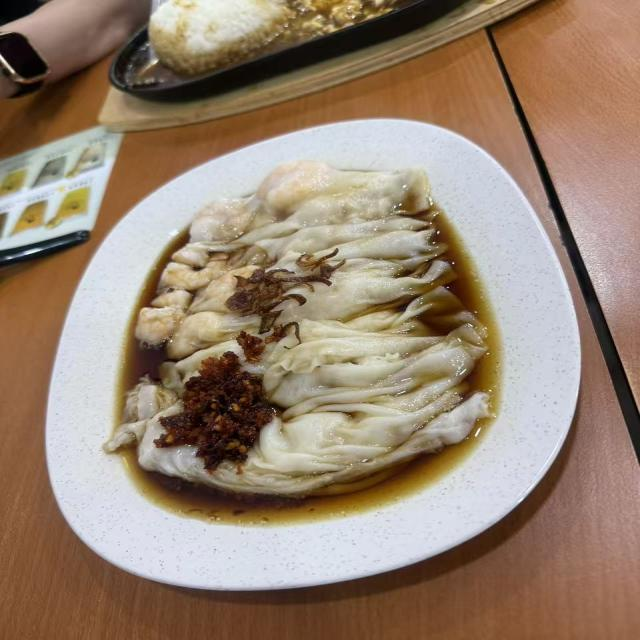Chee Cheong Fun: (122, 149, 504, 512)
